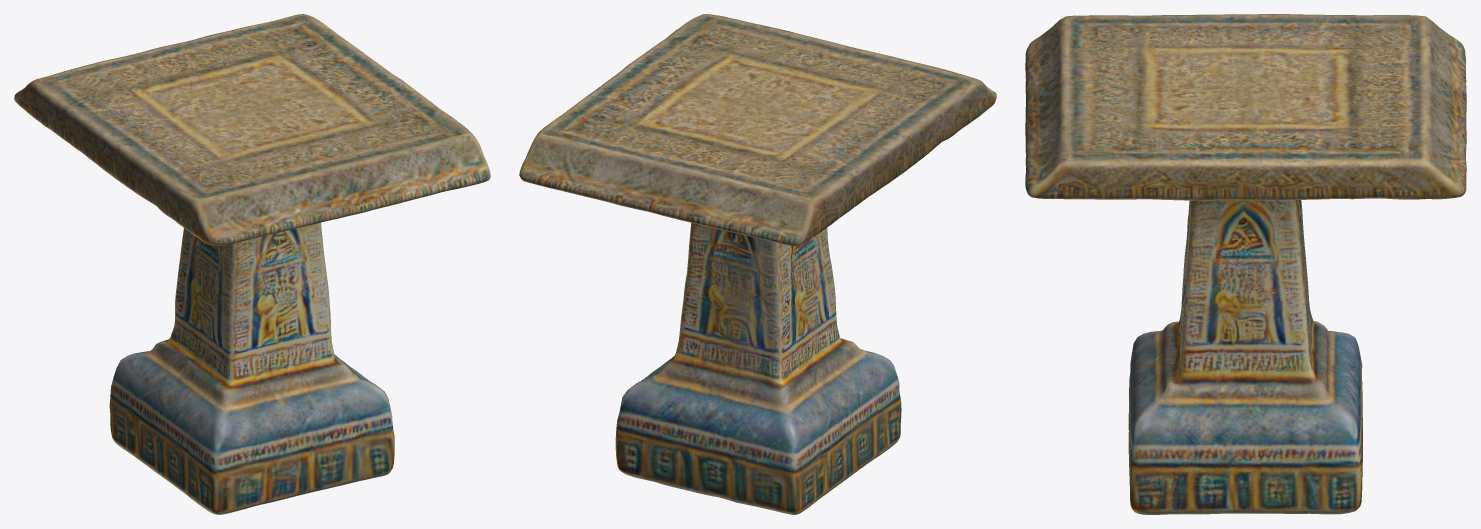
File: 321245744cbf_An_Egyptian_temple_.fbx
3 views of the same model, side by side, from view 1: azimuth 30°, elevation 25°; view 2: azimuth 150°, elevation 25°; view 3: azimuth 270°, elevation 25° (orthographic). The views are drawn at different scales.
Parts seen in each view (by area): view 1: mesh; view 2: mesh; view 3: mesh.
Part boxes in pixels (bbox=[...]): mesh: bbox=[14, 14, 490, 514]; mesh: bbox=[519, 14, 996, 514]; mesh: bbox=[1025, 14, 1466, 514].
Size of the model in its own units: 80.77 by 95.69 by 99.9.
